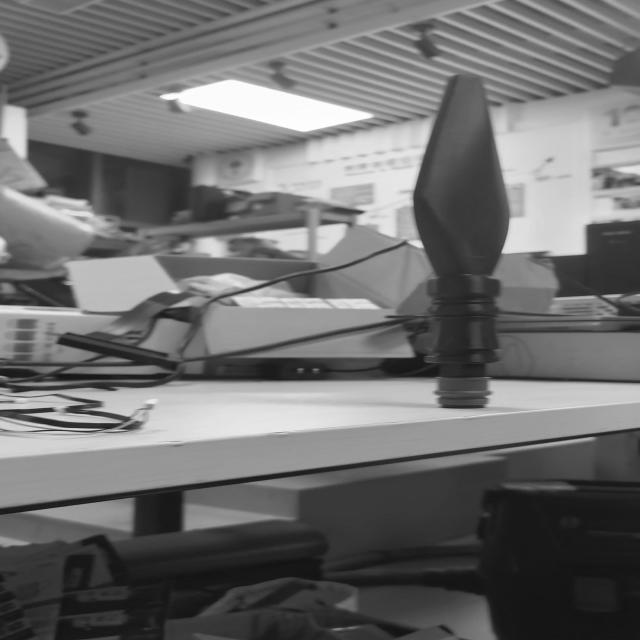base: (436, 374, 495, 406)
